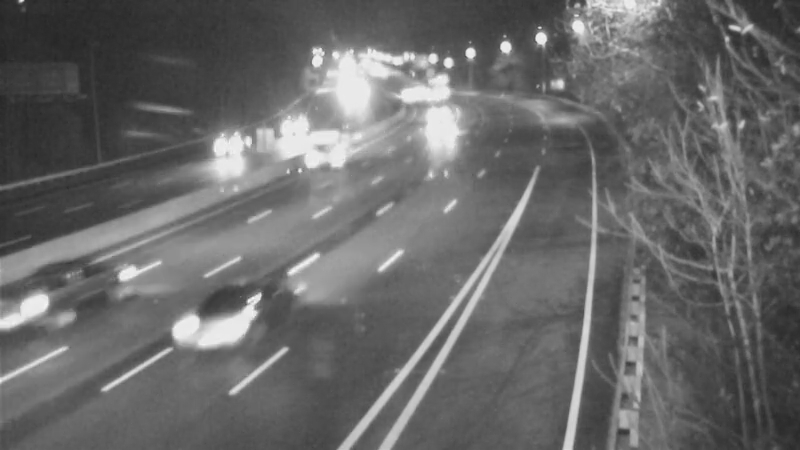vehicle: (168, 266, 278, 376), (1, 254, 95, 364), (284, 111, 364, 191), (416, 72, 466, 122), (380, 68, 430, 118), (410, 84, 460, 134), (420, 105, 470, 155), (202, 118, 252, 168), (271, 105, 321, 155)
